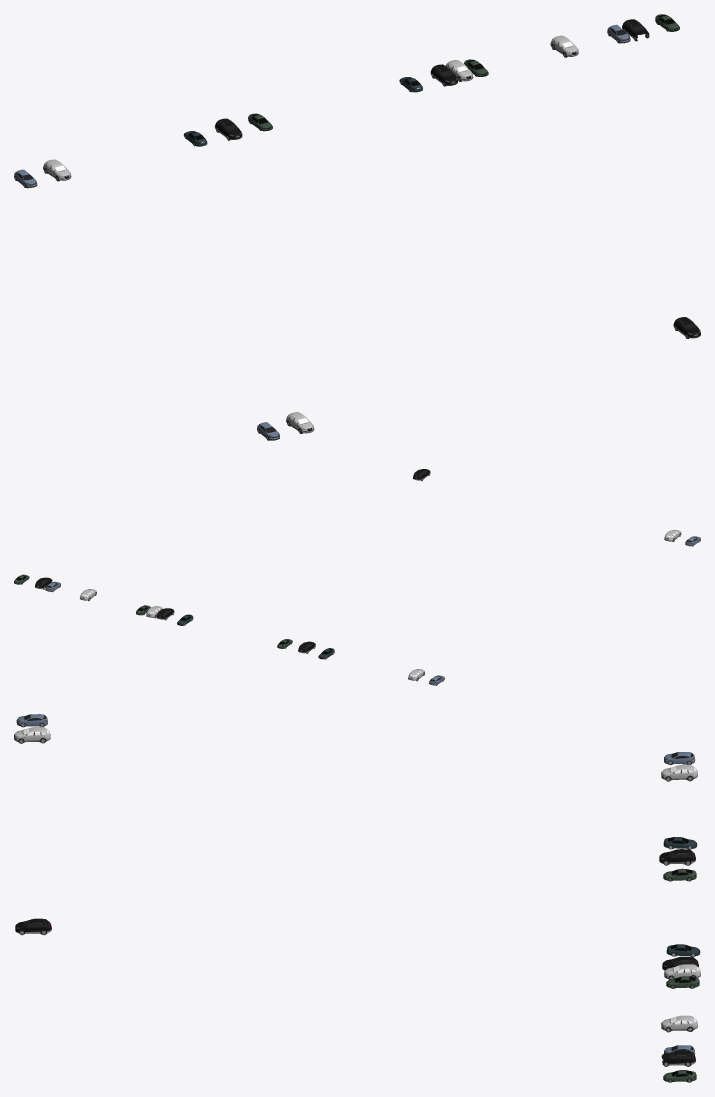
Rendered from MAG_11_plant_build_main.glb.
3 views of the same model, one above another, from view 1: azimuth 30°, elevation 25°; view 2: azimuth 150°, elevation 25°; view 3: azimuth 270°, elevation 25° (orthographic). The views are drawn at different scales.
Visible parts, largest first — view 1: Main _ground_plant; view 2: Main _ground_plant; view 3: Main _ground_plant.
Boxes of the visible parts, x1,y1,x2,y2 form: Main _ground_plant: (14,14,700,440); Main _ground_plant: (14,469,700,685); Main _ground_plant: (14,714,700,1082).
Bounding box in the file's own units: 117 × 1.74 × 93.79.
Materials: 5 (5 with a texture image).
